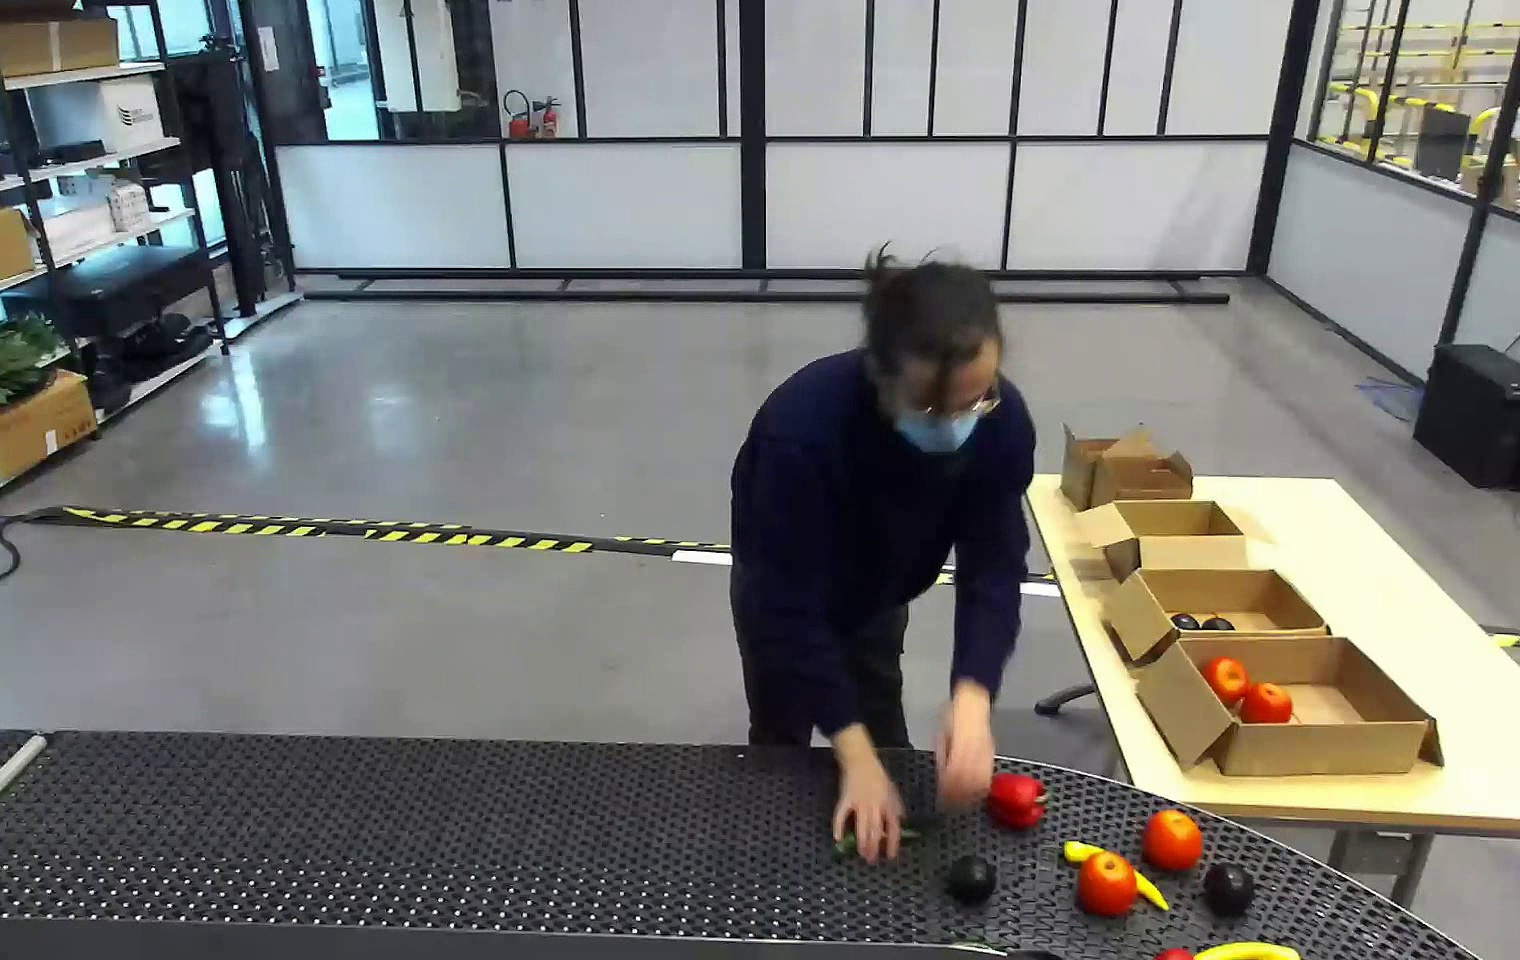Main droite: (987, 755, 1091, 878)
